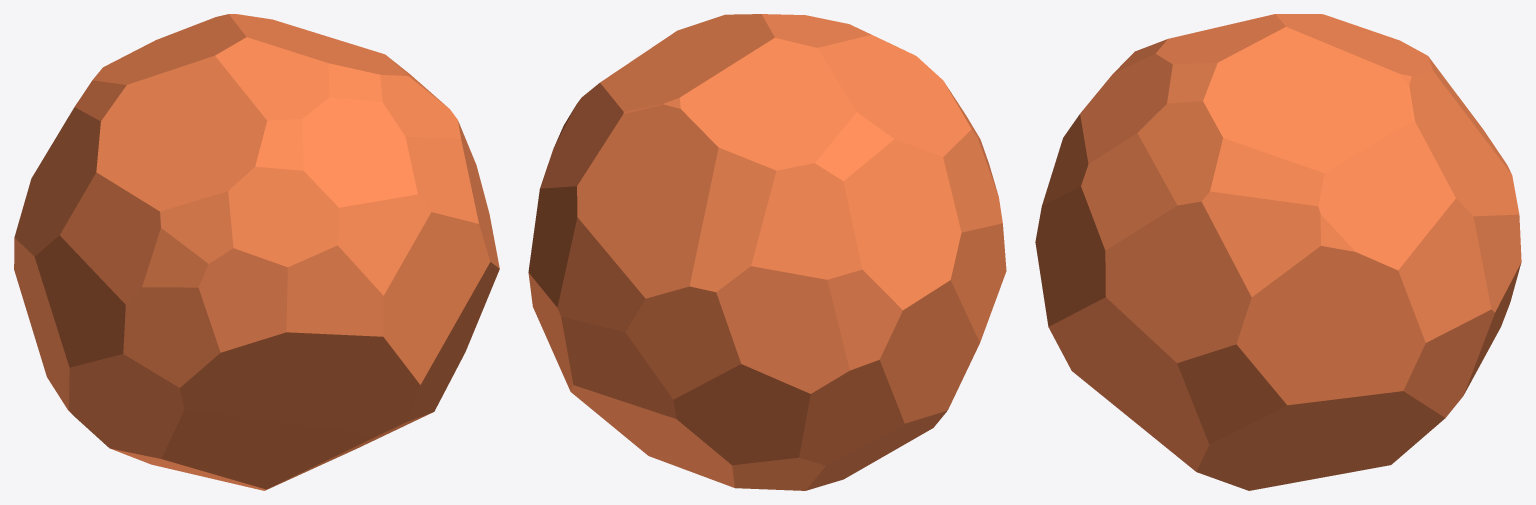
The picture shows the model from 3 angles, left to right: view 1: azimuth 30°, elevation 25°; view 2: azimuth 150°, elevation 25°; view 3: azimuth 270°, elevation 25°; orthographic projection.
Parts seen in each view (by area): view 1: Rock_2; view 2: Rock_2; view 3: Rock_2.
Boxes of the visible parts, x1=… form: Rock_2: x1=14, y1=14, x2=499, y2=490; Rock_2: x1=528, y1=14, x2=1006, y2=490; Rock_2: x1=1035, y1=14, x2=1521, y2=490.
Bounding box in the file's own units: 480 × 474 × 490.
